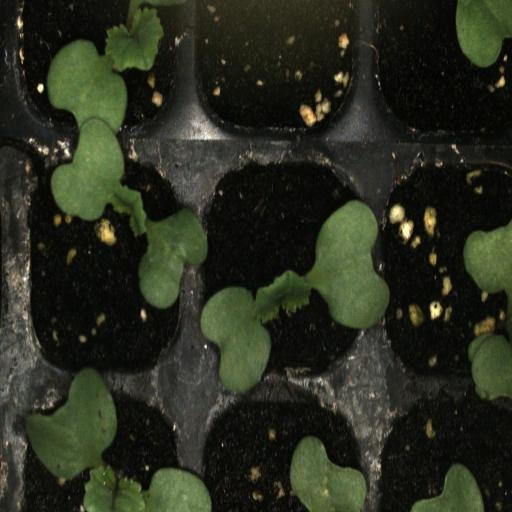seedling: (192, 142, 373, 386), (18, 146, 191, 382), (16, 0, 192, 146), (4, 390, 194, 512)
